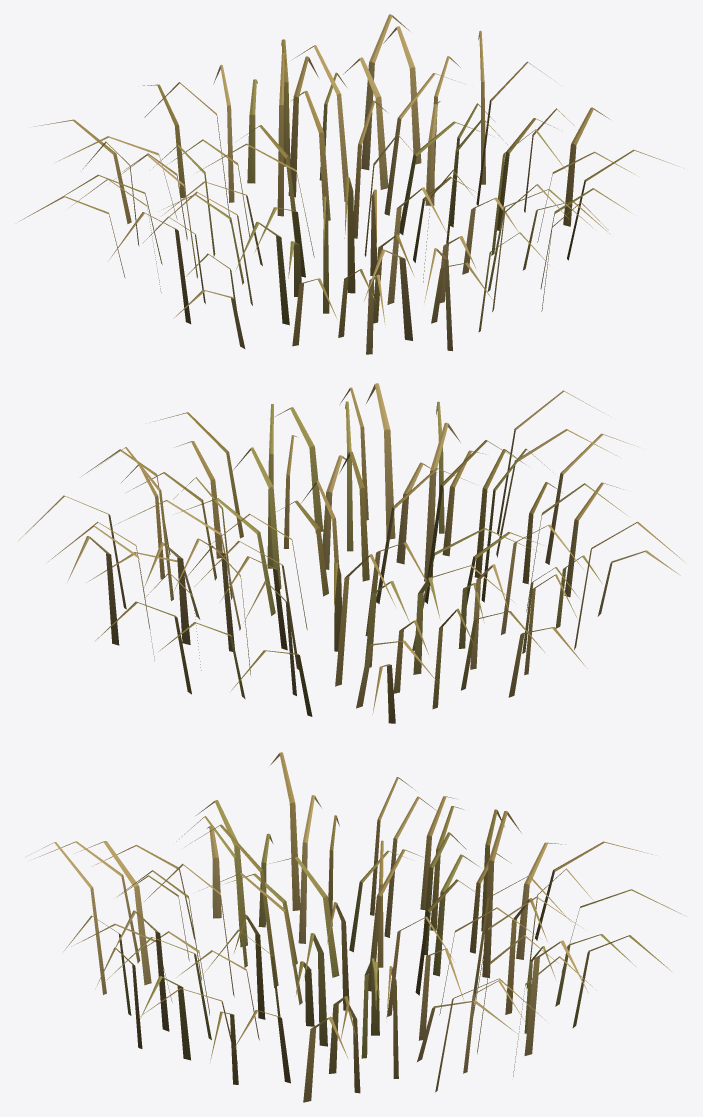
File: grass-fine.glb
3 renders of one model, top to bottom at view 1: azimuth 30°, elevation 25°; view 2: azimuth 150°, elevation 25°; view 3: azimuth 270°, elevation 25°, orthographic. The views are drawn at different scales.
Visible parts, largest first — view 1: FineGrassPatch; view 2: FineGrassPatch; view 3: FineGrassPatch.
Boxes of the visible parts, x1,y1,x2,y2 form: FineGrassPatch: [19, 14, 678, 354]; FineGrassPatch: [18, 383, 686, 723]; FineGrassPatch: [30, 752, 680, 1102].
Size of the model in its own units: 1.55 by 0.3839 by 1.6.
